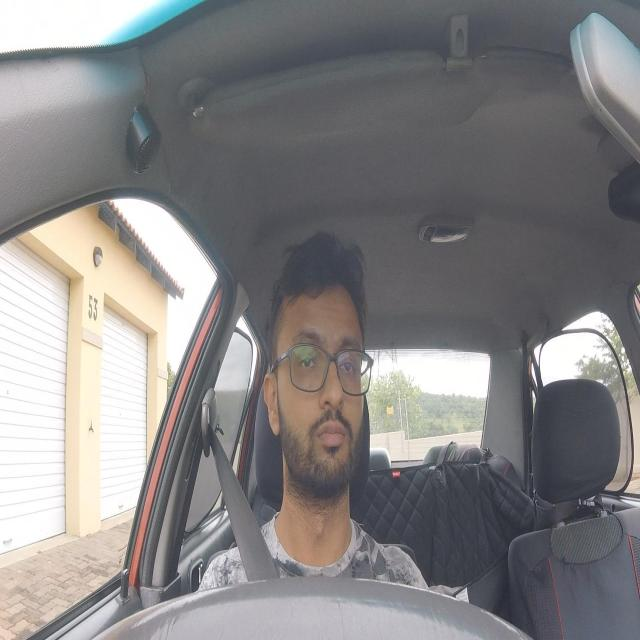open: (289, 325, 328, 384), (332, 333, 362, 386)
